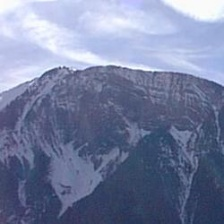neutral: (2, 11, 222, 224)
